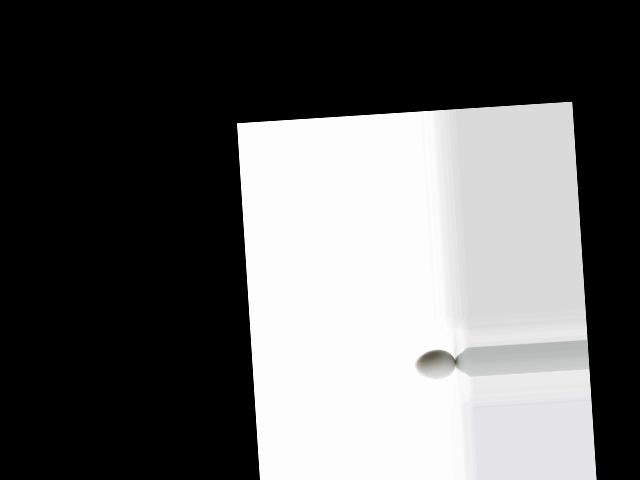egg: (414, 348, 456, 379)
